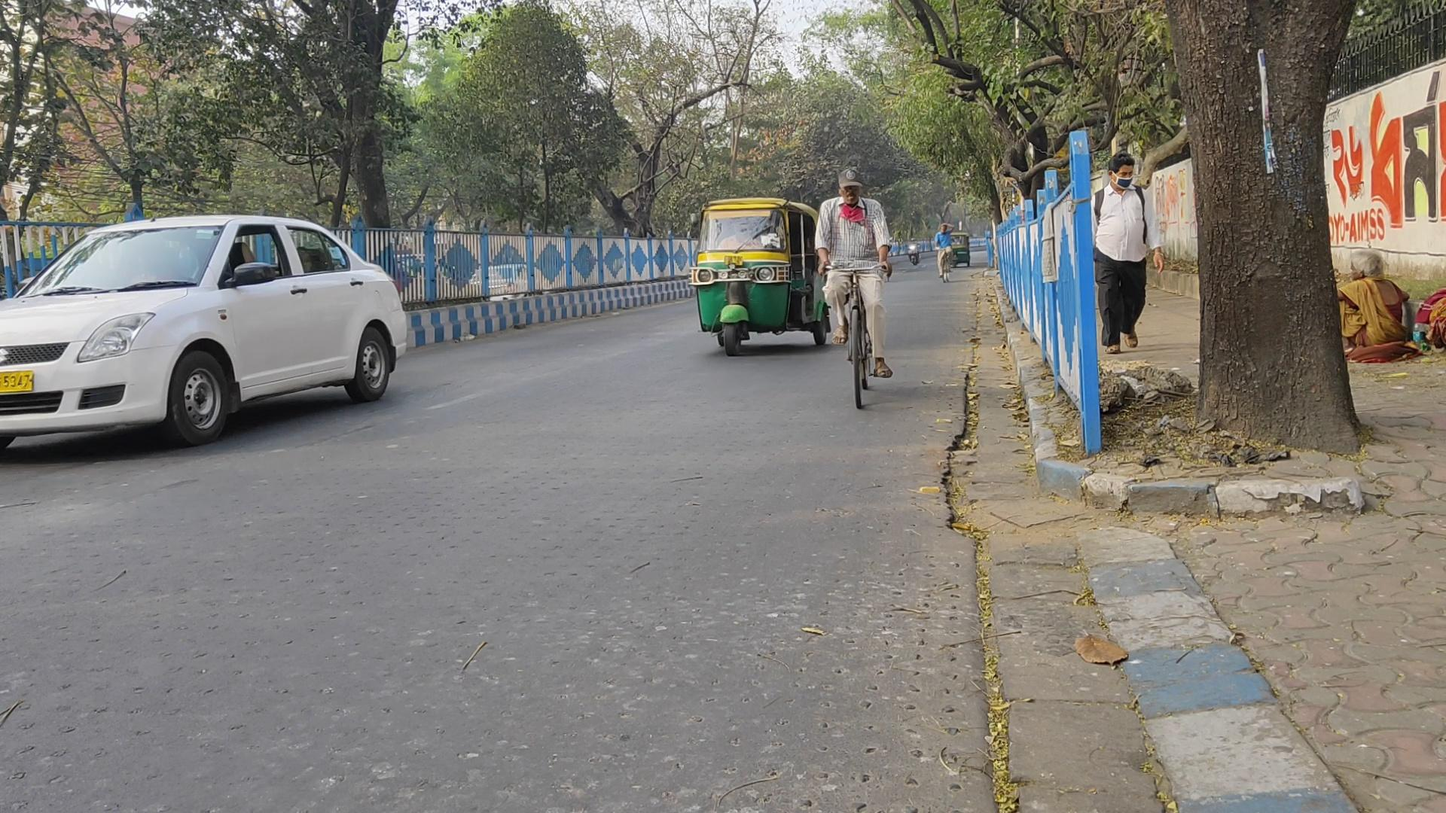Auto: (688, 193, 823, 356), (946, 232, 972, 269)
bike: (814, 167, 892, 409), (935, 222, 956, 283), (905, 237, 920, 266)
car: (2, 214, 407, 446)
